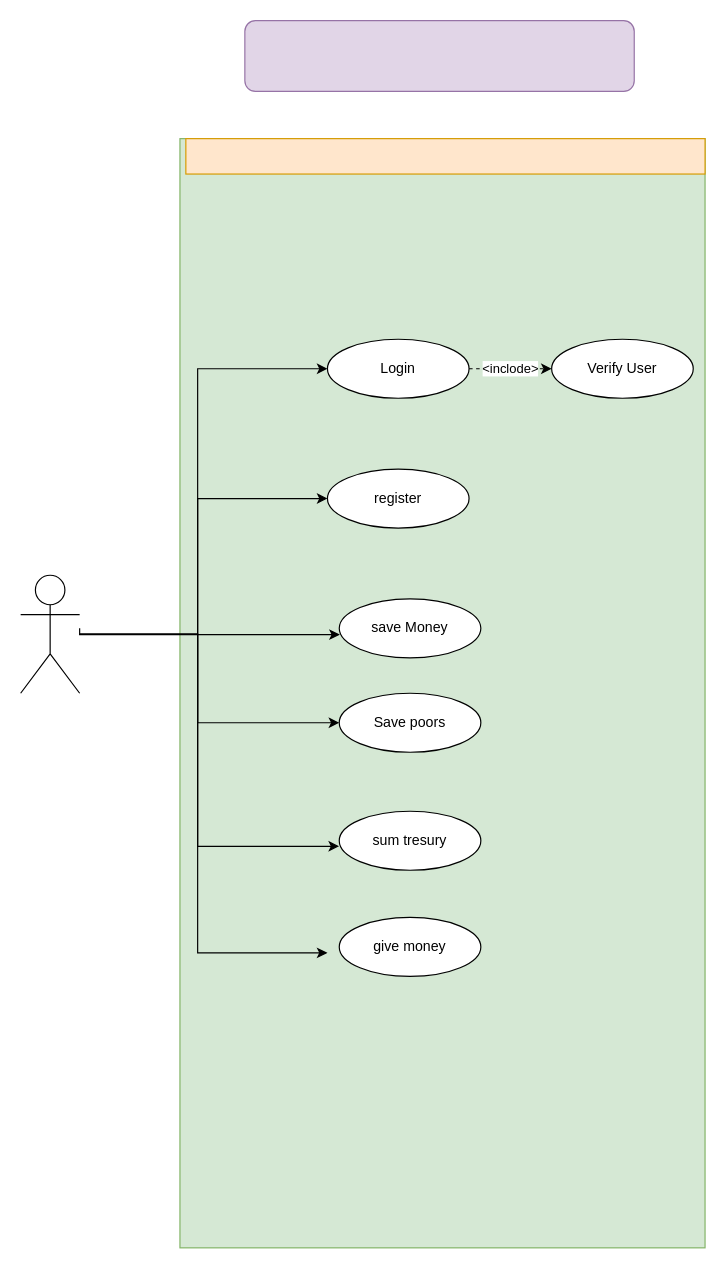
Some shapes in this 726 by 1278 pixel diagram are drawn without their labels. The box of each missing label's shape, as (x1, y1, x2, y2) in pixels:
Admin: (19, 574, 80, 693)
system boundry: (185, 137, 705, 174)
USE CASE Diagram: (244, 19, 634, 91)
